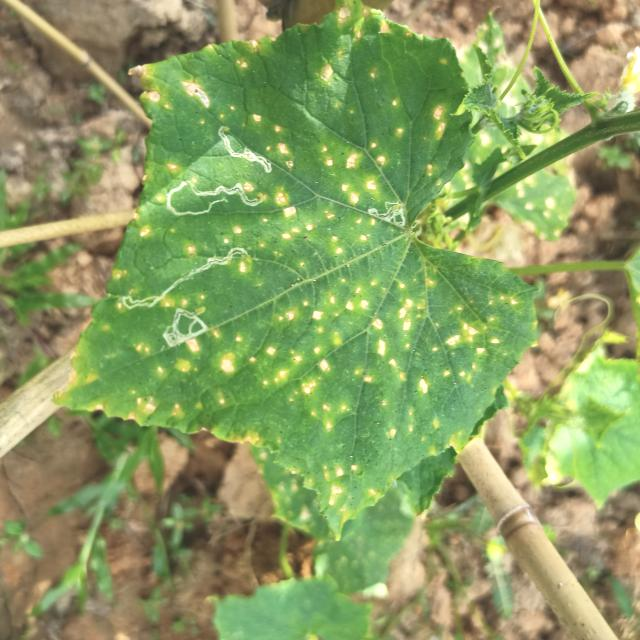disease_cucumber: (106, 256, 509, 508), (312, 99, 405, 207), (275, 180, 375, 256), (318, 1, 396, 85), (142, 80, 232, 123), (254, 109, 298, 169), (180, 225, 248, 257), (237, 36, 279, 71), (429, 98, 450, 146)
